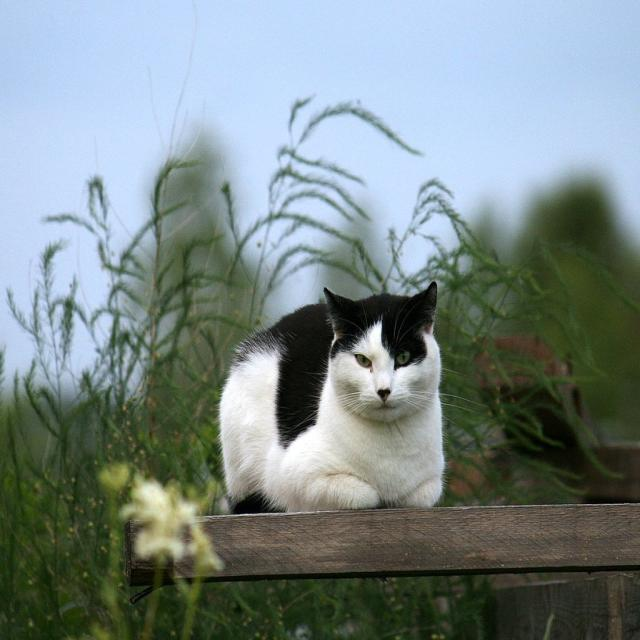Cat: (213, 279, 487, 510)
